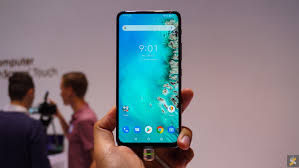asus: (114, 7, 185, 149)
